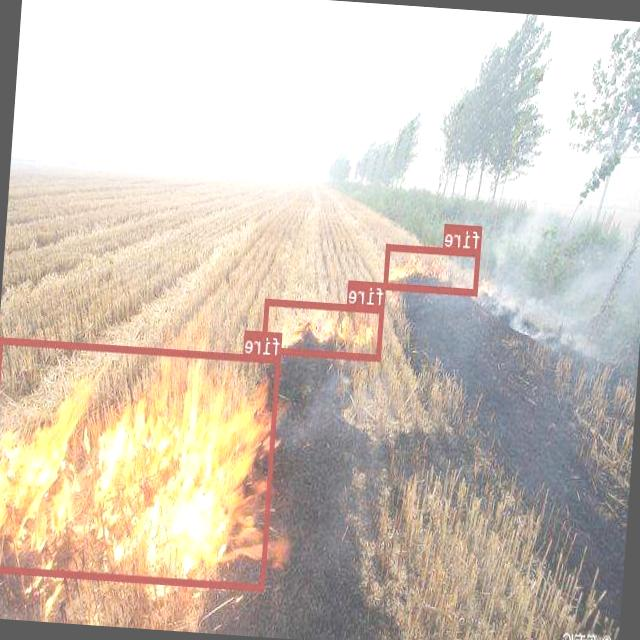fire: (0, 336, 281, 589), (262, 298, 385, 360), (384, 242, 481, 294)
